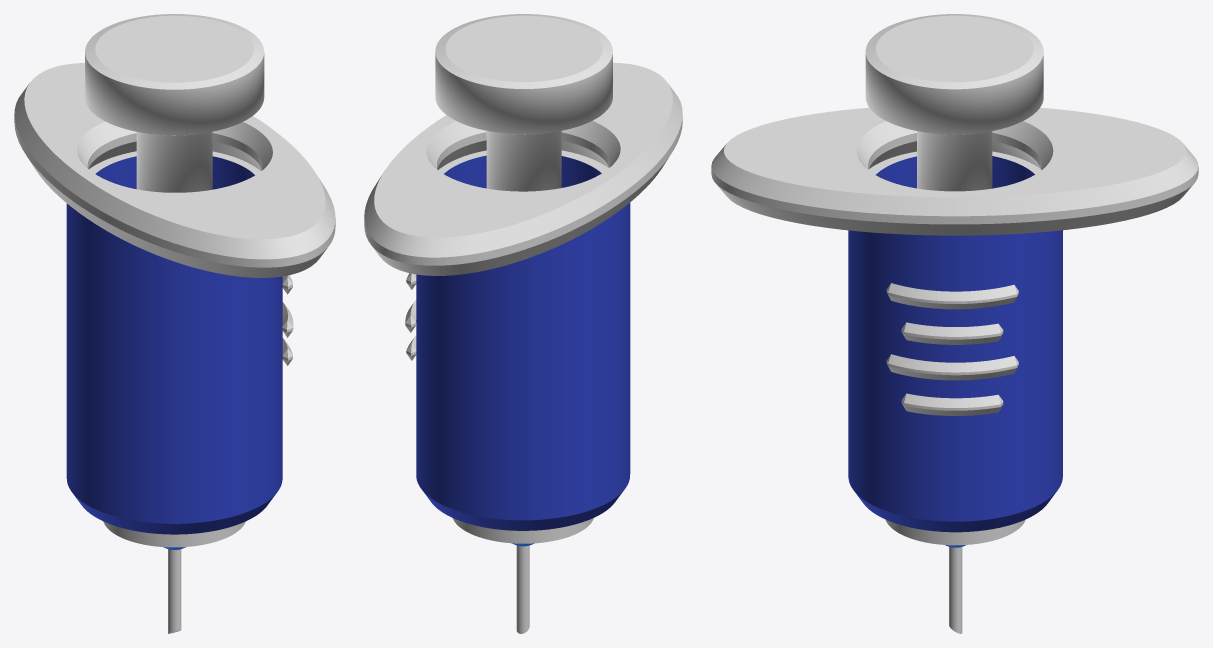
Rendered from Needle.fbx.
3 renders of one model, left to right at view 1: azimuth 30°, elevation 25°; view 2: azimuth 150°, elevation 25°; view 3: azimuth 270°, elevation 25°, orthographic.
Visible parts, largest first — view 1: Cylinder, Cylinder.002, Cylinder.003, Cylinder.005, Cylinder.007, Cylinder.004, Cylinder.001; view 2: Cylinder, Cylinder.002, Cylinder.003, Cylinder.005, Cylinder.007, Cylinder.001, Cylinder.004; view 3: Cylinder, Cylinder.002, Cylinder.003, Cylinder.004, Cylinder.005, Cylinder.007.
Part boxes in pixels (x1,y1,x2,y2): Cylinder: (66,156,282,534); Cylinder.002: (14,63,335,277); Cylinder.003: (85,14,264,192); Cylinder.005: (103,521,245,547); Cylinder.007: (168,549,181,633); Cylinder.004: (282,275,293,365); Cylinder.001: (89,151,260,174); Cylinder: (416,155,630,530); Cylinder.002: (364,62,682,275); Cylinder.003: (435,14,612,191); Cylinder.005: (452,518,593,543); Cylinder.007: (516,545,529,633); Cylinder.001: (438,150,608,173); Cylinder.004: (405,273,416,360); Cylinder: (848,156,1062,532); Cylinder.002: (711,107,1198,235); Cylinder.003: (865,14,1043,191); Cylinder.004: (886,283,1018,415); Cylinder.005: (885,519,1025,545); Cylinder.007: (949,547,962,633).
Bounding box in the file's own units: 222 × 600 × 454.
